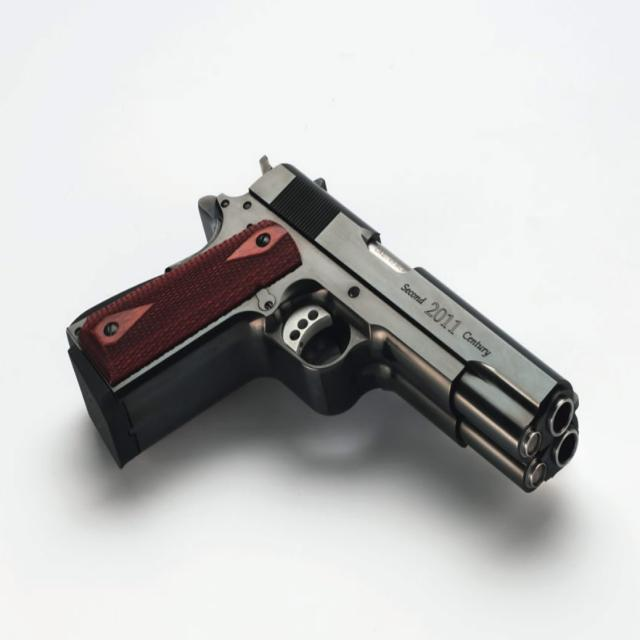Pistol: (36, 112, 606, 547)
